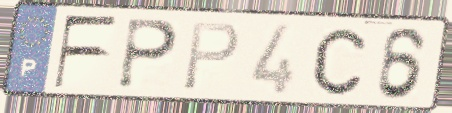4: (247, 21, 298, 98)
6: (375, 26, 428, 103)
C: (311, 26, 369, 98)
F: (52, 14, 122, 91)
P: (114, 16, 181, 92), (180, 21, 242, 93)
